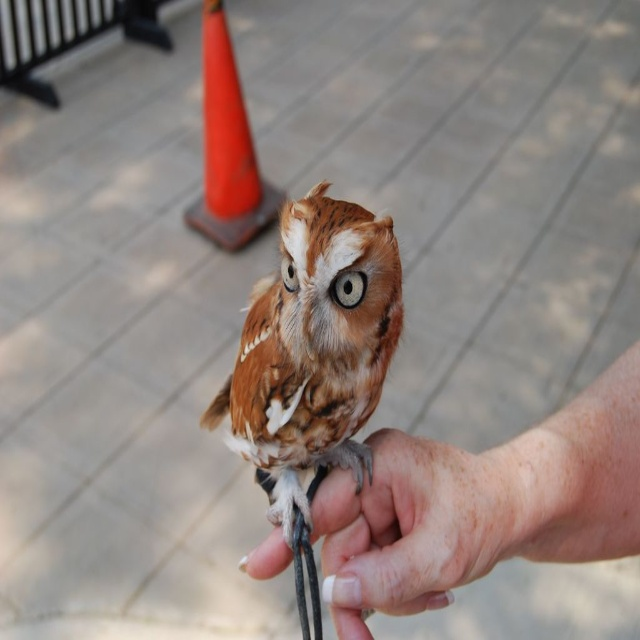Owl: (202, 186, 410, 557)
